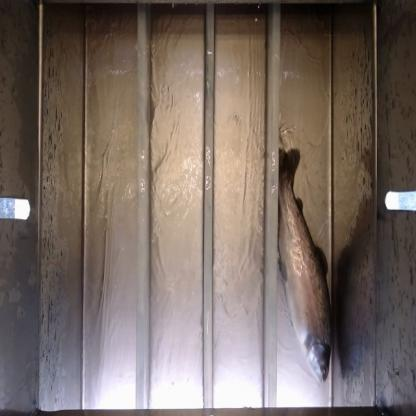pezw: (279, 140, 332, 384)
